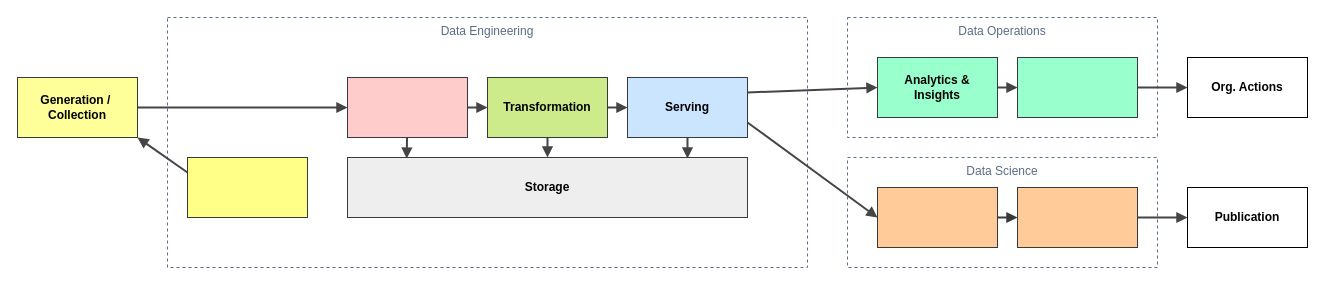
Some shapes in this 1325 by 285 pixel diagram are drawn without their labels. Each missing label, with the centre of its shape:
Experimentation: pixel 937 217
Ingestion: pixel 407 107
Reporting & Alerts: pixel 1077 87
Research & Analysis: pixel 1077 217
Survey Creation: pixel 247 187
